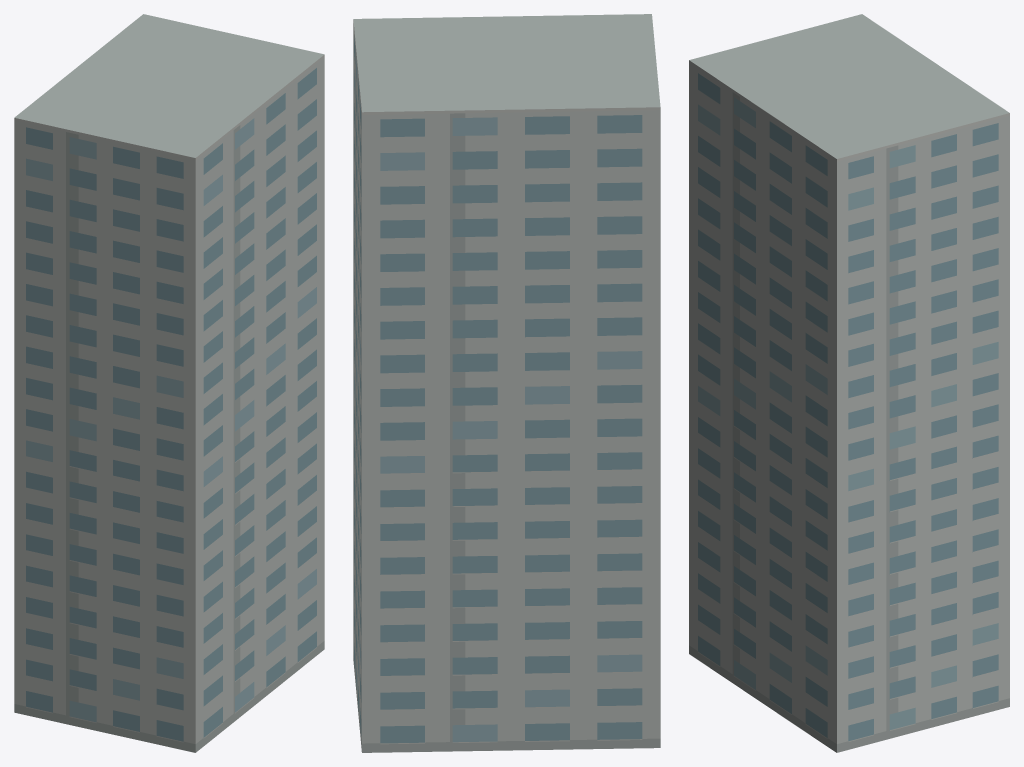
The model's file is residential-2d4d9f29-3d76-49f1-b258-32726e640893.glb.
The picture shows the model from 3 angles, left to right: view 1: azimuth 30°, elevation 25°; view 2: azimuth 150°, elevation 25°; view 3: azimuth 270°, elevation 25°; orthographic projection. The views are drawn at different scales.
Parts seen in each view (by area): view 1: residential-2d4d9f29-3d76-49f1-b258-32726e640893.tmp; view 2: residential-2d4d9f29-3d76-49f1-b258-32726e640893.tmp; view 3: residential-2d4d9f29-3d76-49f1-b258-32726e640893.tmp.
Boxes of the visible parts, box(x1,y1,x2,y2) form: residential-2d4d9f29-3d76-49f1-b258-32726e640893.tmp: box(14, 14, 324, 752); residential-2d4d9f29-3d76-49f1-b258-32726e640893.tmp: box(353, 14, 660, 752); residential-2d4d9f29-3d76-49f1-b258-32726e640893.tmp: box(689, 14, 1009, 752).
Bounding box in the file's own units: 28.83 × 55 × 26.94.
